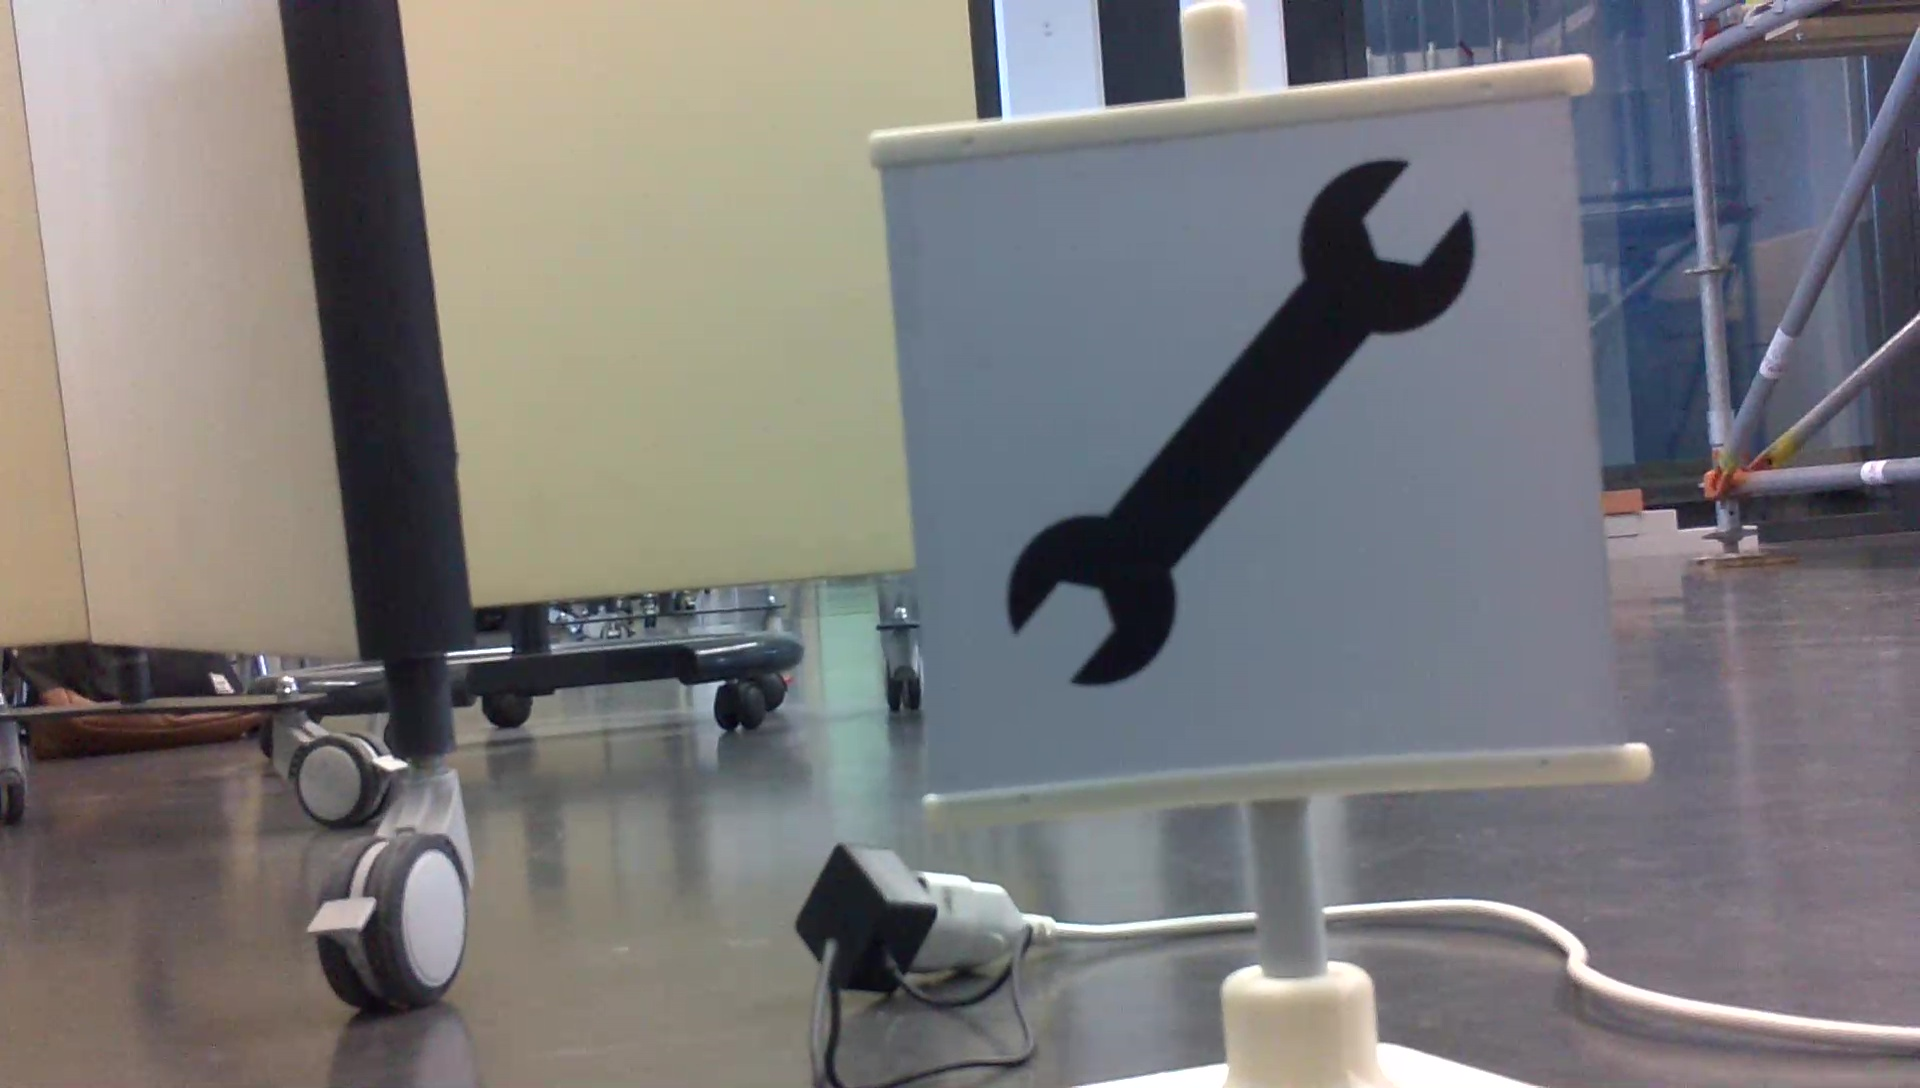wrench: (996, 146, 1487, 702)
